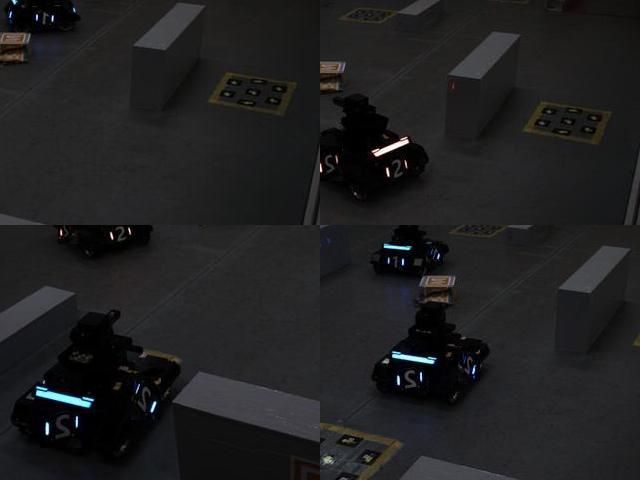armor: (41, 408, 84, 450), (132, 377, 163, 421), (394, 368, 427, 397), (382, 154, 412, 183), (320, 147, 344, 183), (98, 225, 138, 246), (459, 348, 482, 382), (32, 6, 59, 29), (57, 225, 79, 247), (383, 252, 406, 271), (426, 245, 444, 265)
